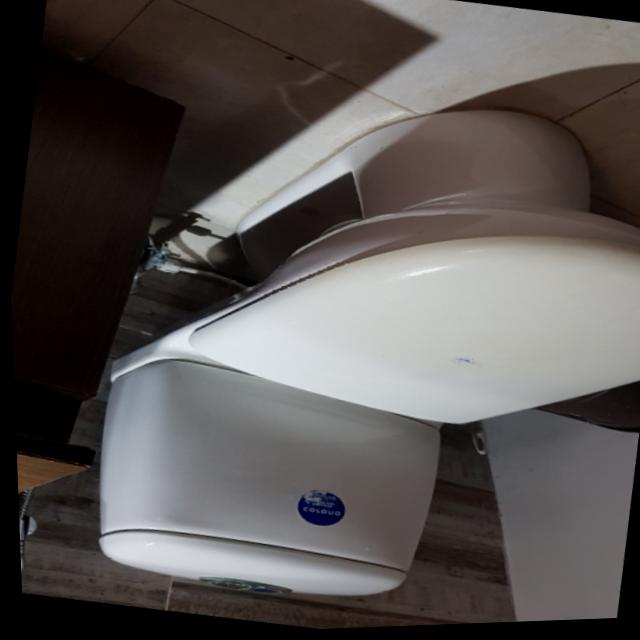toilet: (63, 52, 640, 638)
